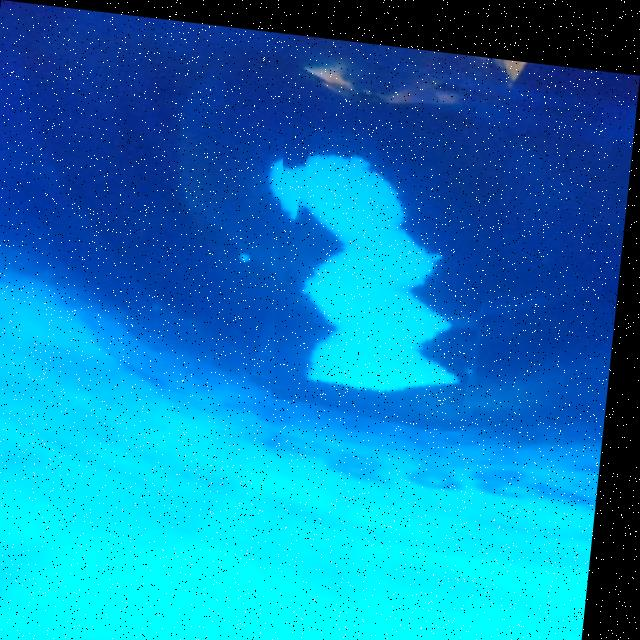thermocoal: (264, 119, 500, 409)
